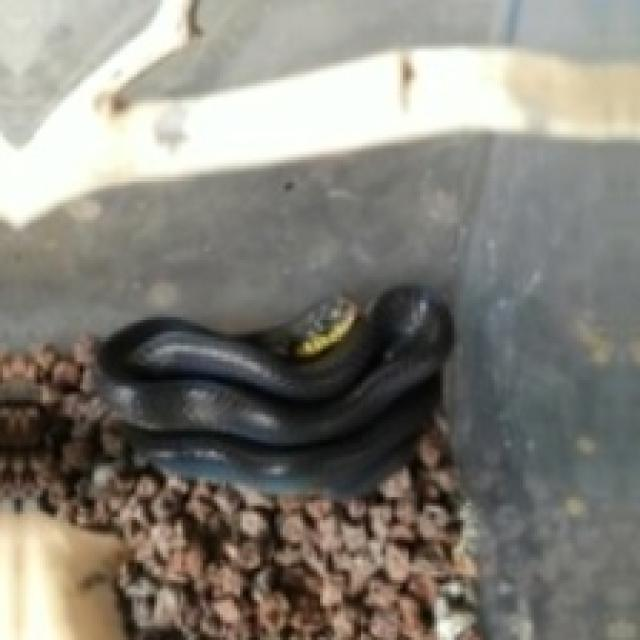mangrove cat snake: (97, 286, 451, 494)
